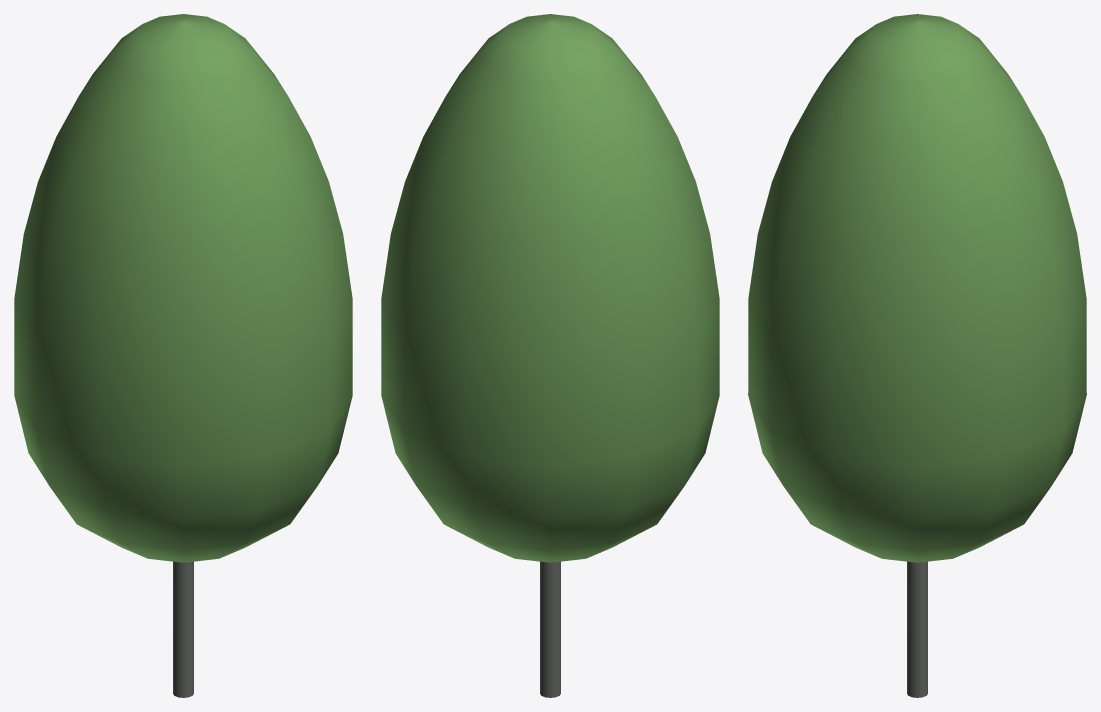
The model's file is Basswood_Analytical_0.obj.
3 views of the same model, side by side, from view 1: azimuth 30°, elevation 25°; view 2: azimuth 150°, elevation 25°; view 3: azimuth 270°, elevation 25° (orthographic).
Visible parts, largest first — view 1: AnalyticalCrown, AnalyticalTrunk; view 2: AnalyticalCrown, AnalyticalTrunk; view 3: AnalyticalCrown, AnalyticalTrunk.
Part boxes in pixels (x1,y1,x2,y2): AnalyticalCrown: [14, 14, 352, 562]; AnalyticalTrunk: [173, 561, 193, 697]; AnalyticalCrown: [381, 14, 719, 562]; AnalyticalTrunk: [540, 561, 560, 697]; AnalyticalCrown: [748, 14, 1086, 562]; AnalyticalTrunk: [907, 561, 927, 697].
Size of the model in its own units: 13.7 by 30 by 13.7.
